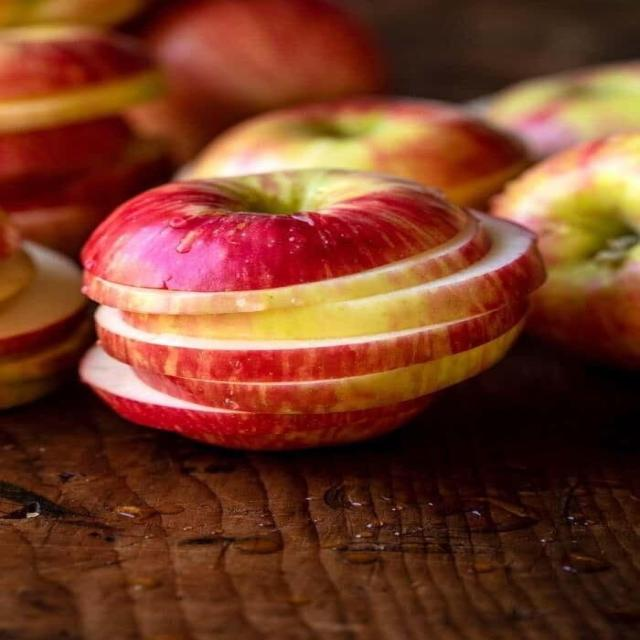apple: (83, 169, 543, 448), (124, 214, 544, 339), (83, 170, 469, 293), (135, 0, 386, 159), (85, 216, 490, 313), (182, 97, 528, 206), (80, 347, 432, 449), (136, 321, 523, 413), (96, 300, 526, 382), (492, 134, 639, 368), (0, 140, 170, 255), (0, 26, 161, 133), (486, 62, 639, 157), (0, 117, 132, 202), (0, 243, 86, 357), (0, 320, 92, 384), (11, 205, 106, 256), (0, 0, 148, 27), (0, 374, 67, 409), (0, 251, 34, 304), (0, 210, 21, 264)
